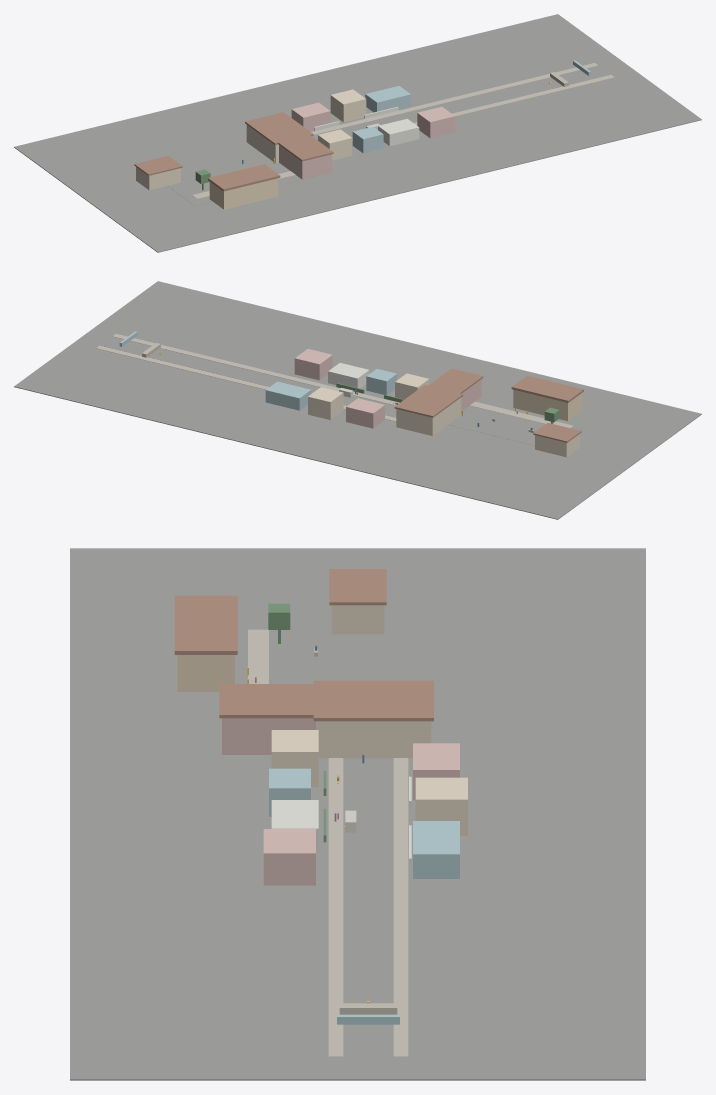
Rendered from ouverture-centre-ville.gltf.
3 renders of one model, top to bottom at view 1: azimuth 30°, elevation 25°; view 2: azimuth 150°, elevation 25°; view 3: azimuth 270°, elevation 25°, orthographic. The views are drawn at different scales.
Visible parts, largest first — view 1: ground, alley_road, school_square, school_main, alley_sidewalk_south, alley_corner_south_roof, school_roof, alley_corner_mask, alley_house_south_2, alley_house_recent, alley_house_south_3, alley_corner_roof (+8 smaller); view 2: ground, school_square, alley_road, alley_corner_south_roof, alley_corner_south_mask, school_main, alley_sidewalk_north, school_roof, alley_house_south_3, alley_house_south_2, alley_house_recent, alley_house_south_1 (+8 smaller); view 3: ground, alley_road, school_square, alley_corner_south_roof, alley_sidewalk_south, alley_sidewalk_north, alley_corner_south_mask, school_roof, alley_corner_roof, alley_house_recent, alley_house_south_3, alley_house_south_2 (+9 smaller).
Part boxes in pixels (x1,y1,x2,y2): ground: (14,14,701,252); alley_road: (312,66,609,140); school_square: (167,154,306,205); school_main: (209,178,278,209); alley_sidewalk_south: (311,63,598,134); alley_corner_south_roof: (245,112,313,144); school_roof: (208,164,280,191); alley_corner_mask: (279,145,331,179); alley_house_south_2: (330,89,366,122); alley_house_recent: (417,106,455,138); alley_house_south_3: (365,86,410,112); alley_corner_roof: (277,135,333,161); ground: (14,281,701,519); school_square: (448,397,588,445); alley_road: (100,337,396,417); alley_corner_south_roof: (394,385,463,417); alley_corner_south_mask: (396,397,461,435); school_main: (513,389,582,420); alley_sidewalk_north: (112,333,399,405); school_roof: (511,375,583,402); alley_house_south_3: (265,381,311,410); alley_house_south_2: (308,387,343,419); alley_house_recent: (294,349,332,380); alley_house_south_1: (346,398,384,428); ground: (70,548,645,1080); alley_road: (345,758,391,1056); school_square: (235,621,368,683); alley_corner_south_roof: (313,680,433,721); alley_sidewalk_south: (393,758,408,1056); alley_sidewalk_north: (328,758,343,1056); alley_corner_south_mask: (316,721,431,758); school_roof: (174,595,237,654); alley_corner_roof: (219,684,318,718); alley_house_recent: (263,829,315,885); alley_house_south_3: (413,821,459,878); alley_house_south_2: (415,777,467,835).
Size of the model in its own units: 240 by 9.23 by 110.
